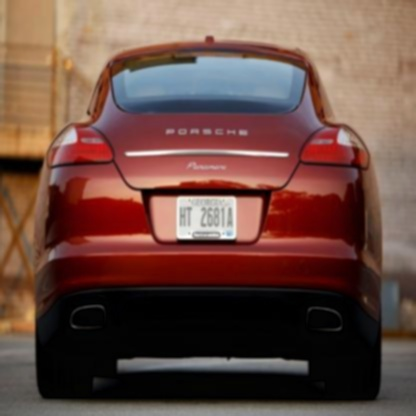Vehicle: (32, 36, 384, 397)
